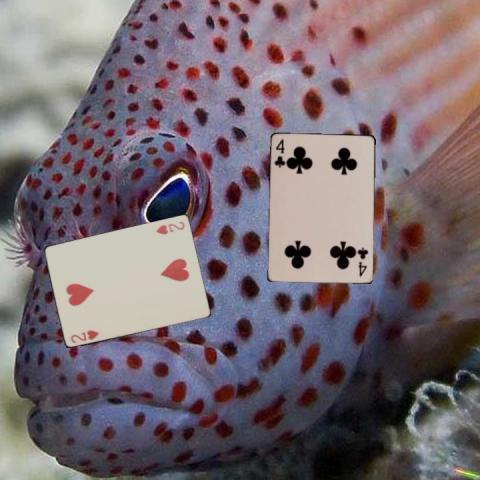2h: (67, 327, 100, 345), (153, 219, 186, 236)
4c: (355, 245, 370, 278), (272, 136, 287, 169)
